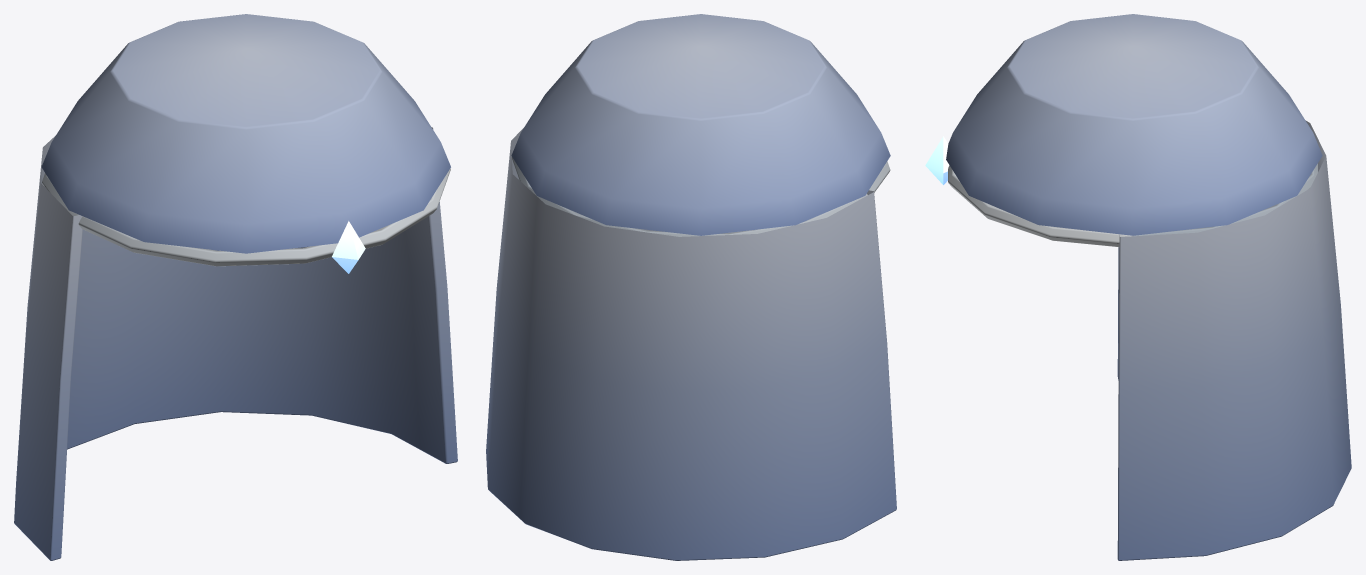
File: spirit_veil.glb
The picture shows the model from 3 angles, left to right: view 1: azimuth 30°, elevation 25°; view 2: azimuth 150°, elevation 25°; view 3: azimuth 270°, elevation 25°; orthographic projection. The views are drawn at different scales.
Visible parts, largest first — view 1: spirit_veil, spirit_veil_glow; view 2: spirit_veil; view 3: spirit_veil, spirit_veil_glow.
Boxes of the visible parts, x1,y1,x2,y2 form: spirit_veil: [14, 14, 457, 560]; spirit_veil_glow: [332, 221, 365, 273]; spirit_veil: [486, 14, 896, 560]; spirit_veil: [946, 14, 1351, 560]; spirit_veil_glow: [925, 136, 949, 184].
Bounding box in the file's own units: 2.39 × 2.56 × 2.34.
